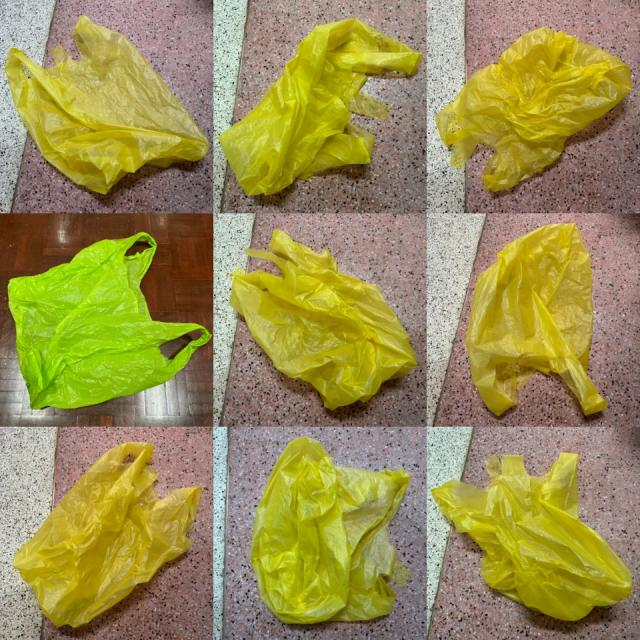Single-layer Plastic: (5, 16, 209, 193), (9, 232, 211, 409), (219, 19, 422, 195), (14, 442, 201, 628), (432, 452, 631, 620), (230, 230, 416, 408), (436, 28, 631, 191), (250, 438, 410, 623), (466, 224, 606, 415)
